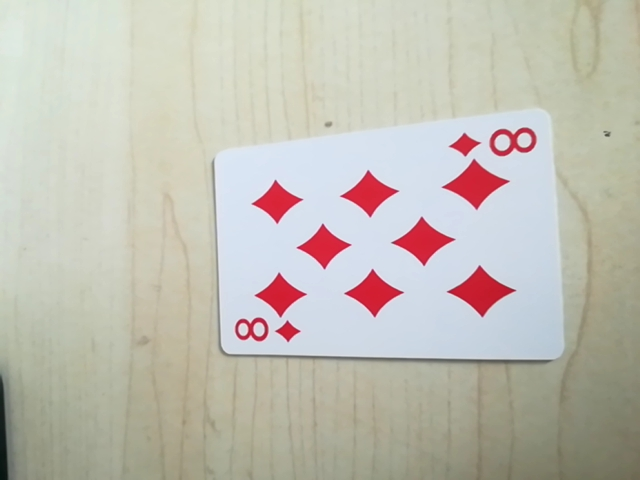fk 8: (448, 120, 542, 165), (231, 313, 303, 353)
